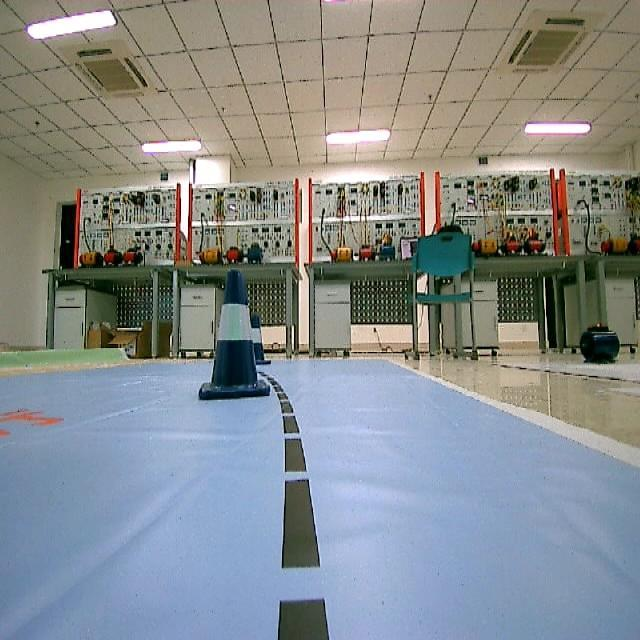obstacle: (196, 270, 271, 409)
